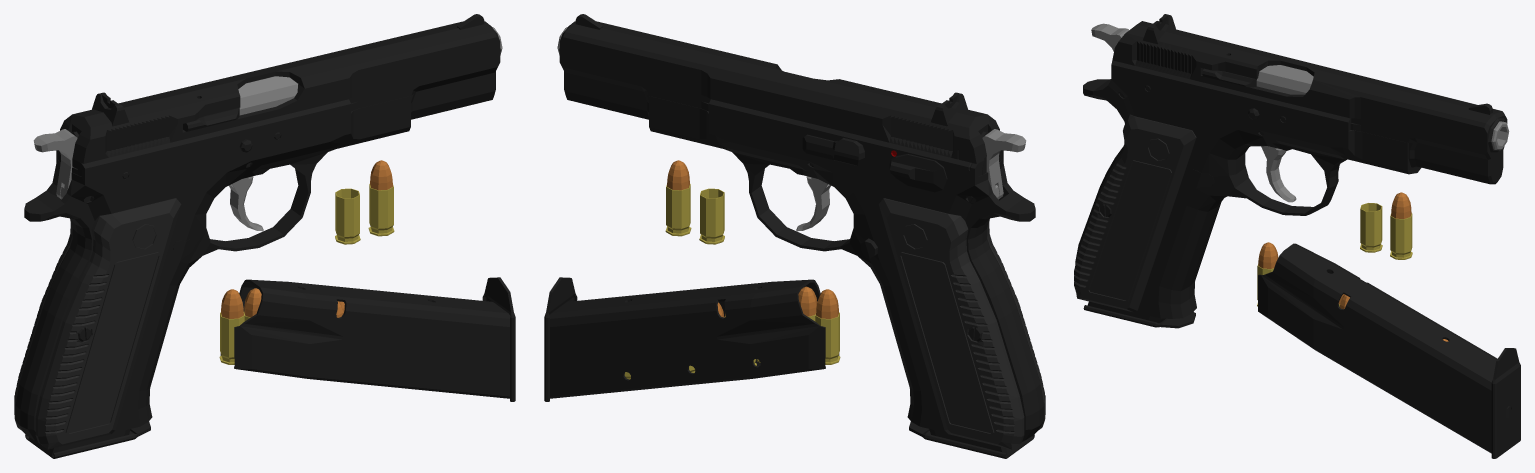
The picture shows the model from 3 angles, left to right: view 1: azimuth 30°, elevation 25°; view 2: azimuth 150°, elevation 25°; view 3: azimuth 330°, elevation 25°; orthographic projection. The views are drawn at different scales.
Parts seen in each view (by area): view 1: Object_20, Object_12, Object_18, Object_31, Object_16, Object_10, Object_25, Object_4, Object_7, Object_14, Object_23, Object_13 (+1 smaller); view 2: Object_20, Object_12, Object_18, Object_31, Object_29, Object_25, Object_10, Object_27, Object_4, Object_7, Object_14, Object_13 (+2 smaller); view 3: Object_20, Object_12, Object_18, Object_31, Object_16, Object_4, Object_10, Object_7, Object_23, Object_14, Object_25, Object_8.
Part boxes in pixels (x1,y1,x2,y2): Object_20: (15, 96, 410, 441); Object_12: (220, 277, 515, 401); Object_18: (58, 14, 500, 176); Object_31: (14, 198, 181, 449); Object_16: (238, 27, 502, 115); Object_10: (335, 188, 360, 244); Object_25: (33, 129, 77, 199); Object_4: (25, 421, 150, 458); Object_7: (368, 184, 394, 236); Object_14: (221, 288, 344, 318); Object_23: (229, 176, 263, 231); Object_13: (219, 312, 250, 364); Object_20: (649, 96, 1044, 441); Object_12: (544, 277, 839, 401); Object_18: (559, 14, 1001, 176); Object_31: (878, 198, 1045, 449); Object_29: (889, 154, 947, 192); Object_25: (982, 129, 1026, 199); Object_10: (699, 188, 724, 244); Object_27: (802, 134, 864, 165); Object_4: (909, 421, 1034, 458); Object_7: (665, 184, 691, 236); Object_14: (717, 286, 838, 318); Object_13: (624, 312, 840, 379); Object_20: (1075, 60, 1421, 318); Object_12: (1258, 243, 1520, 458); Object_18: (1112, 14, 1507, 184); Object_31: (1074, 114, 1196, 312); Object_16: (1256, 65, 1509, 150); Object_4: (1083, 301, 1195, 328); Object_10: (1360, 203, 1382, 252); Object_7: (1390, 213, 1412, 259); Object_23: (1261, 146, 1296, 202); Object_14: (1258, 242, 1448, 341); Object_25: (1091, 23, 1128, 51); Object_8: (1391, 192, 1411, 218).
Bounding box in the file's own units: 2.11 × 1.61 × 0.2912.
